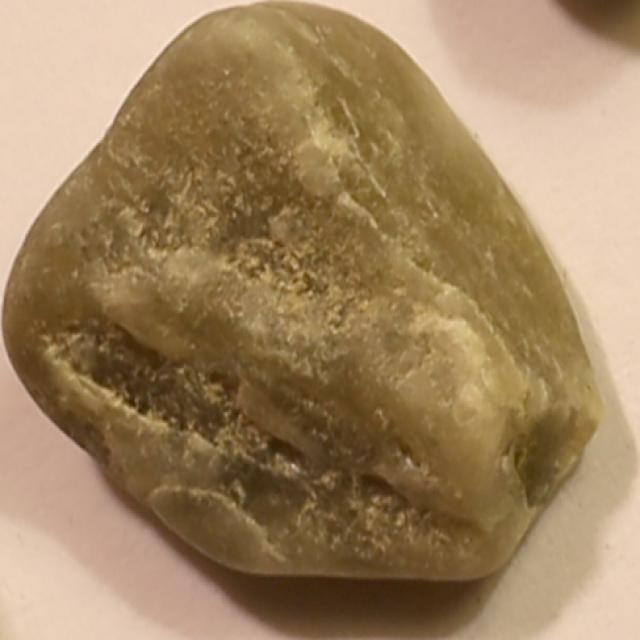stone: (0, 0, 608, 590)
